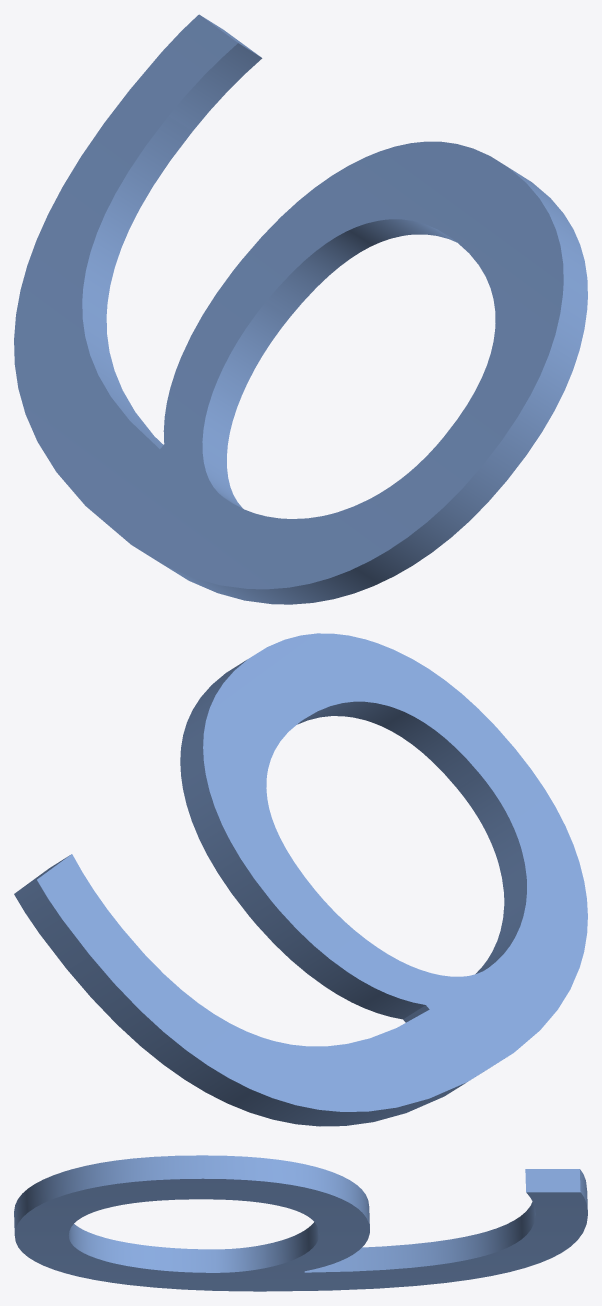
File: New_Number_9.gltf
The picture shows the model from 3 angles, top to bottom: view 1: azimuth 30°, elevation 25°; view 2: azimuth 150°, elevation 25°; view 3: azimuth 270°, elevation 25°; orthographic projection. The views are drawn at different scales.
Parts seen in each view (by area): view 1: Part 279; view 2: Part 279; view 3: Part 279.
Boxes of the visible parts, x1,y1,x2,y2 form: Part 279: (14, 14, 587, 604); Part 279: (14, 633, 587, 1126); Part 279: (14, 1155, 587, 1291).
Size of the model in its own units: 0.00285 by 0.00263 by 0.00567.
